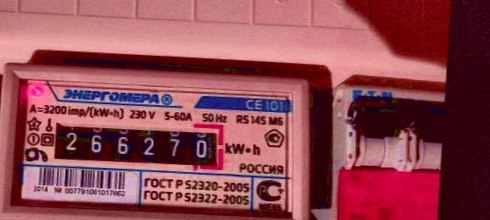0: (194, 136, 208, 156)
2: (63, 129, 80, 150), (141, 133, 156, 154)
6: (89, 130, 103, 152), (116, 133, 130, 154)
7: (167, 135, 180, 155)
screen: (44, 110, 231, 174)
